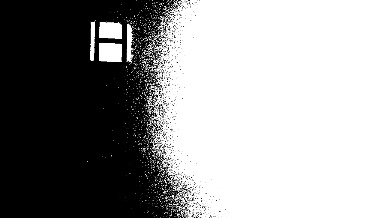H: (89, 20, 134, 63)
